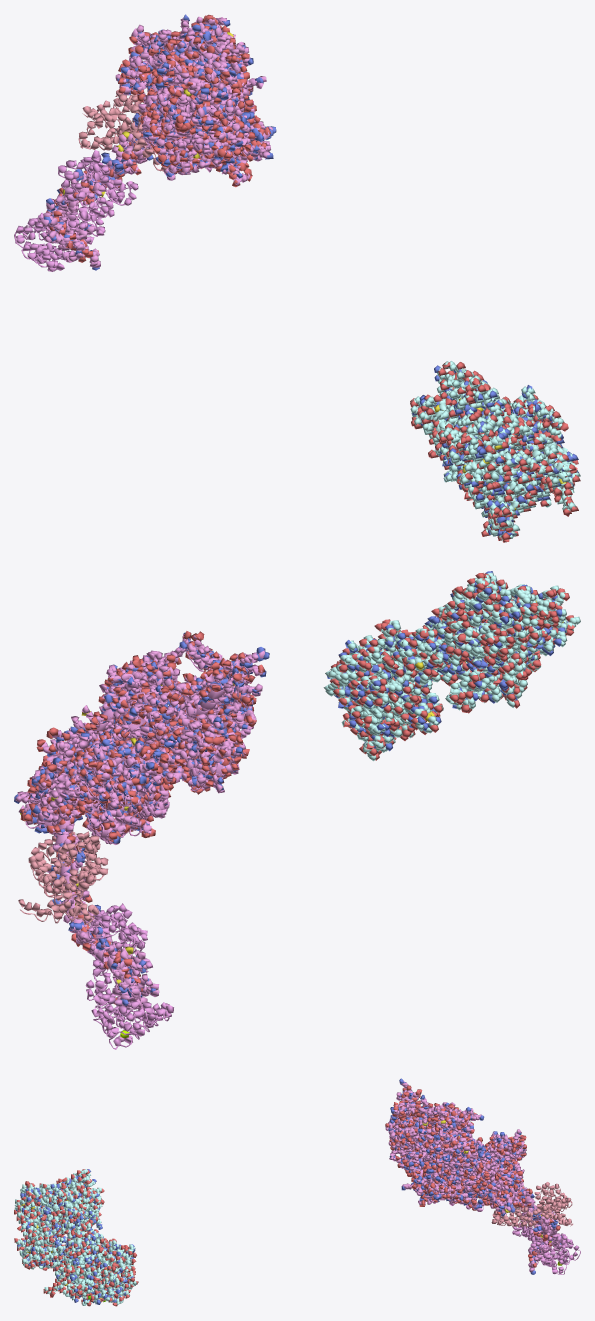
The model's file is actin-myosin-sphere-lod1-meshopt.glb.
The picture shows the model from 3 angles, top to bottom: view 1: azimuth 30°, elevation 25°; view 2: azimuth 150°, elevation 25°; view 3: azimuth 270°, elevation 25°; orthographic projection. The views are drawn at different scales.
Parts seen in each view (by area): view 1: 2MYS, 1ATN; view 2: 2MYS, 1ATN; view 3: 2MYS, 1ATN.
Boxes of the visible parts, bbox=[...] form: 2MYS: bbox=[14, 14, 276, 271]; 1ATN: bbox=[410, 361, 580, 542]; 2MYS: bbox=[14, 631, 269, 1049]; 1ATN: bbox=[323, 571, 580, 761]; 2MYS: bbox=[385, 1078, 580, 1274]; 1ATN: bbox=[14, 1169, 138, 1306].
Size of the model in its own units: 0.8878 by 1.36 by 3.59.
